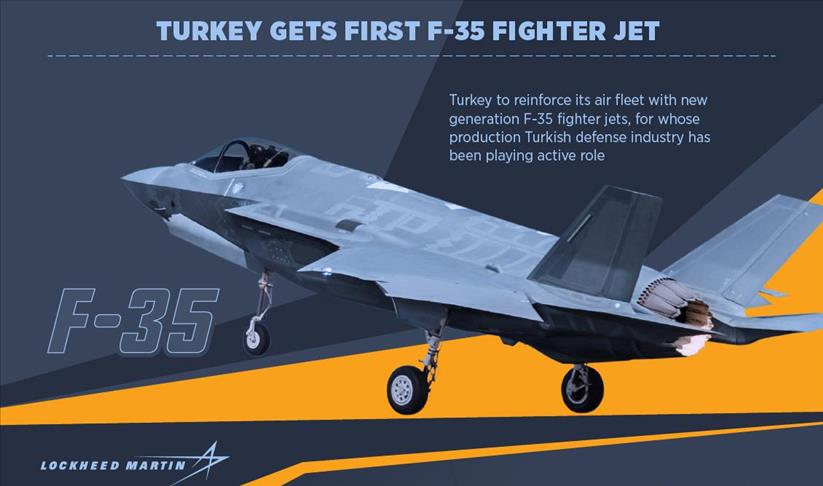F-35 Lightning: (114, 102, 814, 419)
